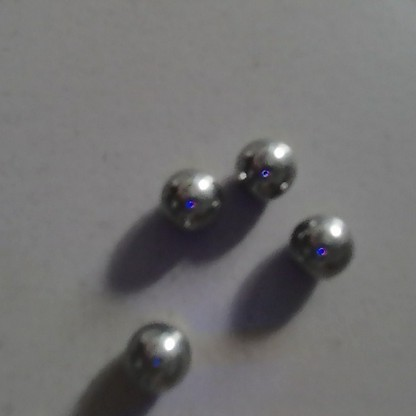ironball: (282, 208, 357, 284), (227, 135, 305, 204), (123, 320, 195, 390), (156, 165, 225, 236)
